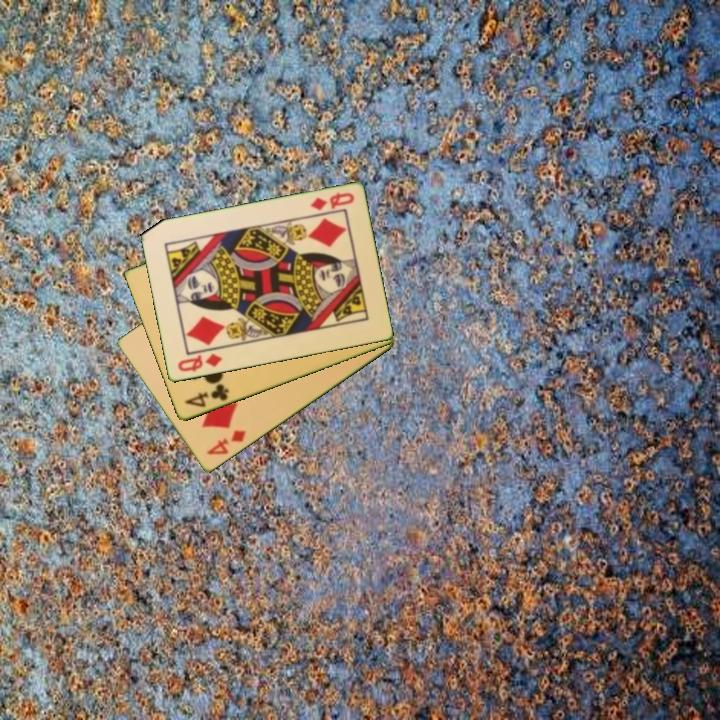4c: (181, 380, 232, 411)
4d: (203, 427, 249, 458)
Qd: (174, 350, 225, 375), (307, 189, 357, 214)
